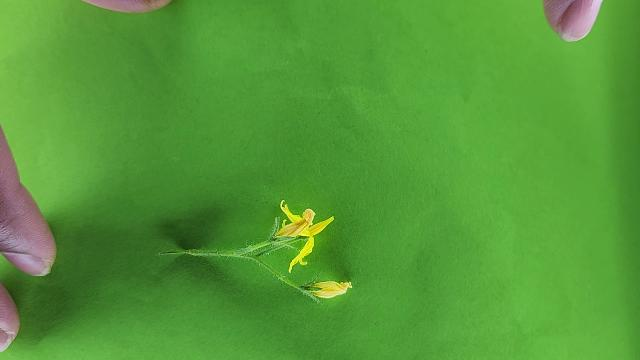Anthesis: (276, 201, 335, 274), (302, 278, 361, 308), (301, 276, 355, 300)
